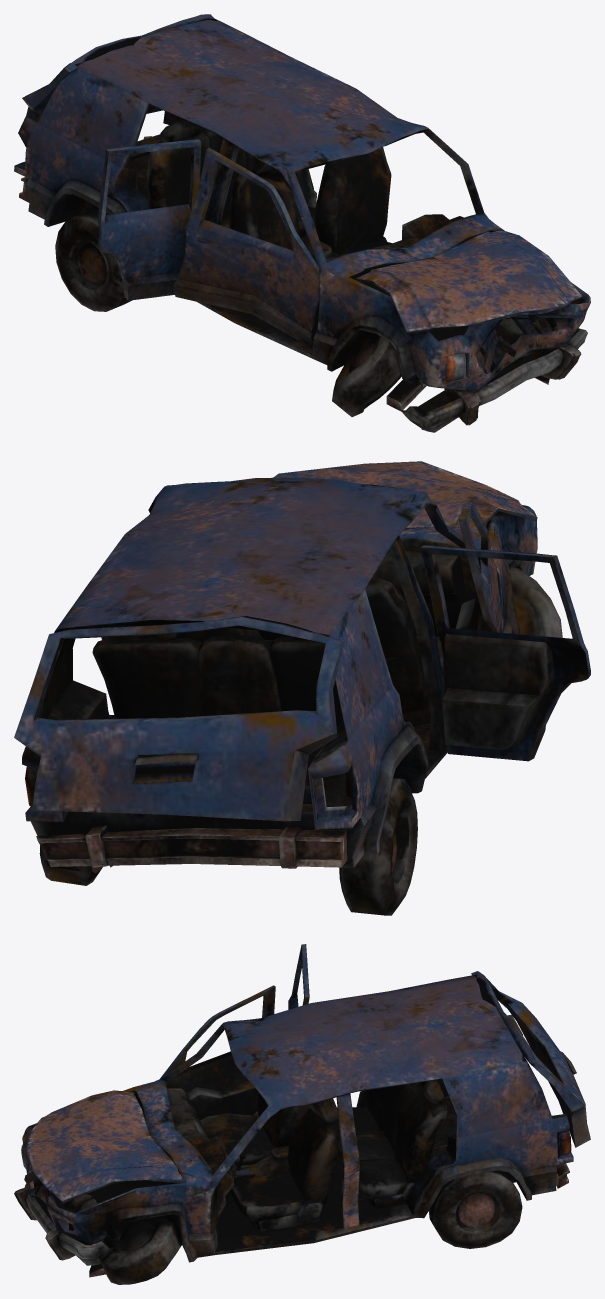
Rendered from car_crashed_car.glb.
The picture shows the model from 3 angles, top to bottom: view 1: azimuth 30°, elevation 25°; view 2: azimuth 150°, elevation 25°; view 3: azimuth 270°, elevation 25°; orthographic projection. The views are drawn at different scales.
Visible parts, largest first — view 1: KUZA_1, KAPOT_0, DRONT-QAPI_3, BACK-QAPI_4, FRONT-BUFER_2, TEKER.001_7, TEKER_6, BAQAJ_5; view 2: KUZA_1, BAQAJ_5, BACK-QAPI_4, KAPOT_0, TEKER.001_7, DRONT-QAPI_3, TEKER_6, TEKER.002_8; view 3: KUZA_1, KAPOT_0, TEKER.002_8, DRONT-QAPI_3, BAQAJ_5, TEKER.003_9, FRONT-BUFER_2, BACK-QAPI_4.
Boxes of the visible parts, bbox=[...] form: KUZA_1: bbox=[14, 19, 590, 411]; KAPOT_0: bbox=[355, 230, 582, 334]; DRONT-QAPI_3: bbox=[173, 147, 319, 348]; BACK-QAPI_4: bbox=[97, 139, 201, 300]; FRONT-BUFER_2: bbox=[400, 328, 587, 432]; TEKER.001_7: bbox=[55, 208, 131, 311]; TEKER_6: bbox=[332, 333, 401, 416]; BAQAJ_5: bbox=[18, 14, 214, 147]; KUZA_1: bbox=[22, 477, 537, 868]; BAQAJ_5: bbox=[14, 616, 344, 821]; BACK-QAPI_4: bbox=[420, 545, 590, 761]; KAPOT_0: bbox=[271, 461, 537, 533]; TEKER.001_7: bbox=[339, 778, 417, 915]; DRONT-QAPI_3: bbox=[455, 503, 502, 632]; TEKER_6: bbox=[509, 566, 562, 637]; TEKER.002_8: bbox=[39, 845, 102, 885]; KUZA_1: bbox=[21, 974, 573, 1277]; KAPOT_0: bbox=[26, 1090, 184, 1203]; TEKER.002_8: bbox=[428, 1170, 522, 1248]; DRONT-QAPI_3: bbox=[160, 985, 275, 1119]; BAQAJ_5: bbox=[471, 971, 590, 1147]; TEKER.003_9: bbox=[98, 1218, 181, 1284]; FRONT-BUFER_2: bbox=[14, 1183, 113, 1265]; BACK-QAPI_4: bbox=[288, 944, 309, 1009].
Bounding box in the file's own units: 5.14 × 2.92 × 7.64.
1 material, 1 textured.
